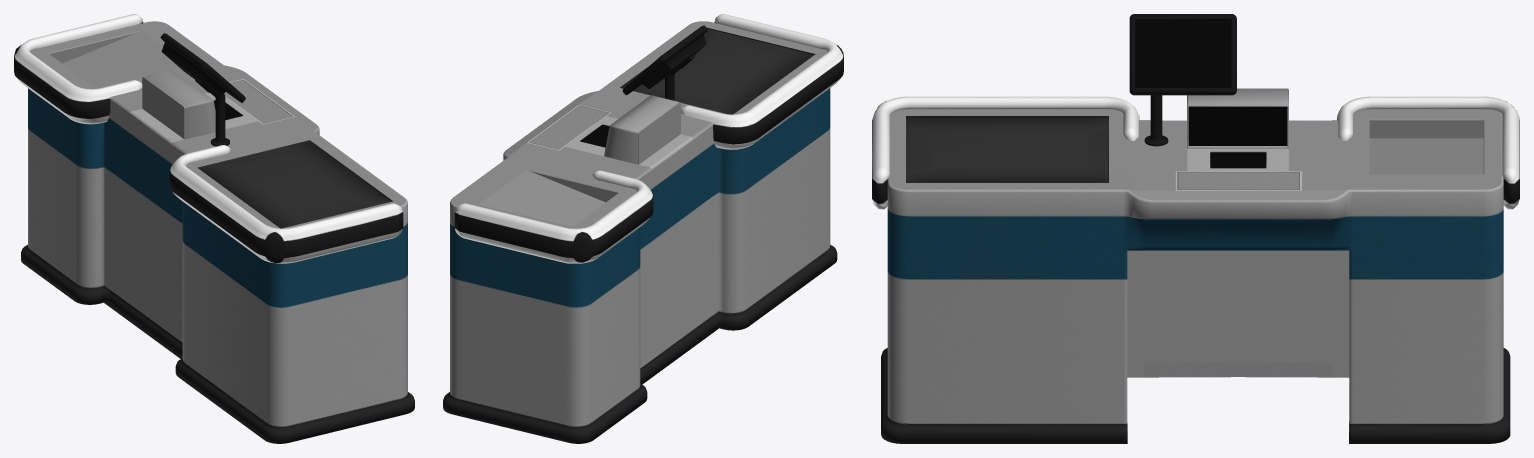
Rendered from CashRegister.glb.
The picture shows the model from 3 angles, left to right: view 1: azimuth 30°, elevation 25°; view 2: azimuth 150°, elevation 25°; view 3: azimuth 270°, elevation 25°; orthographic projection. The views are drawn at different scales.
Parts seen in each view (by area): view 1: body, z_porte_caisse_no_norm, pied_ecran; view 2: body, z_porte_caisse_no_norm, pied_ecran; view 3: body, z_porte_caisse_no_norm, pied_ecran.
Part boxes in pixels (x1,y1,x2,y2): body: [21, 21, 414, 443]; z_porte_caisse_no_norm: [14, 14, 403, 263]; pied_ecran: [160, 33, 245, 146]; body: [443, 21, 837, 443]; z_porte_caisse_no_norm: [454, 14, 843, 263]; pied_ecran: [622, 25, 707, 100]; body: [881, 109, 1510, 443]; z_porte_caisse_no_norm: [872, 88, 1519, 209]; pied_ecran: [1129, 14, 1236, 146].
Bounding box in the file's own units: 0.7035 × 1.23 × 1.99.
3 materials, 3 textured.
